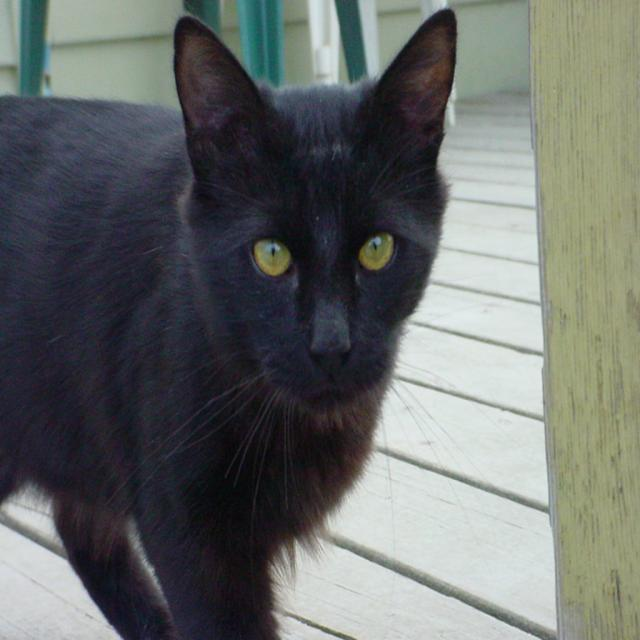Cat: (0, 2, 466, 639)
